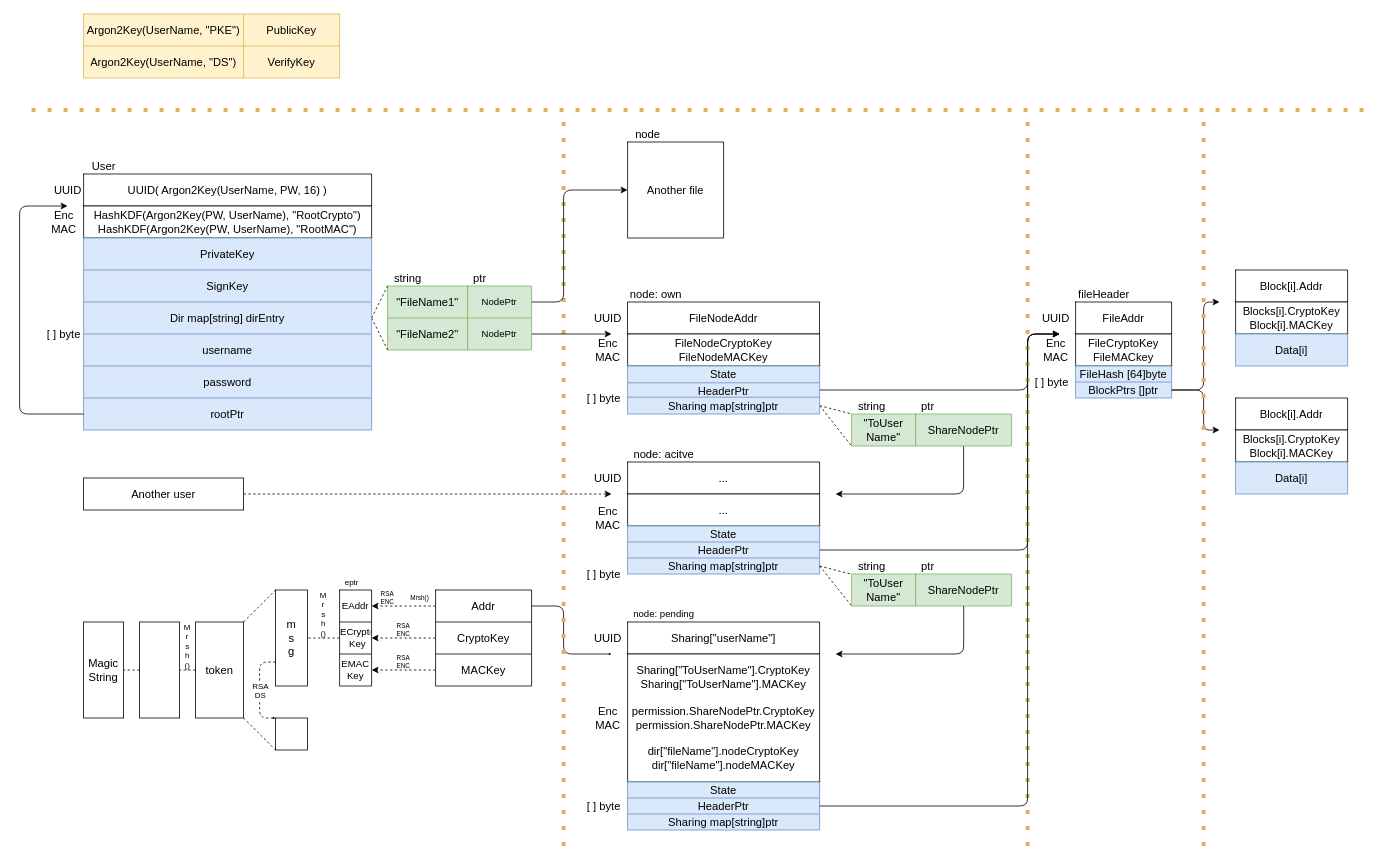
The diagram is 1380 pixels wide and 862 high, and some of its shapes have lost their labels. Here are the shapes that lost their labels. From the top down, the centre of each, then its label:
At (x=159, y=669): "Magic Bytes".
At (x=291, y=733): "Sign".
